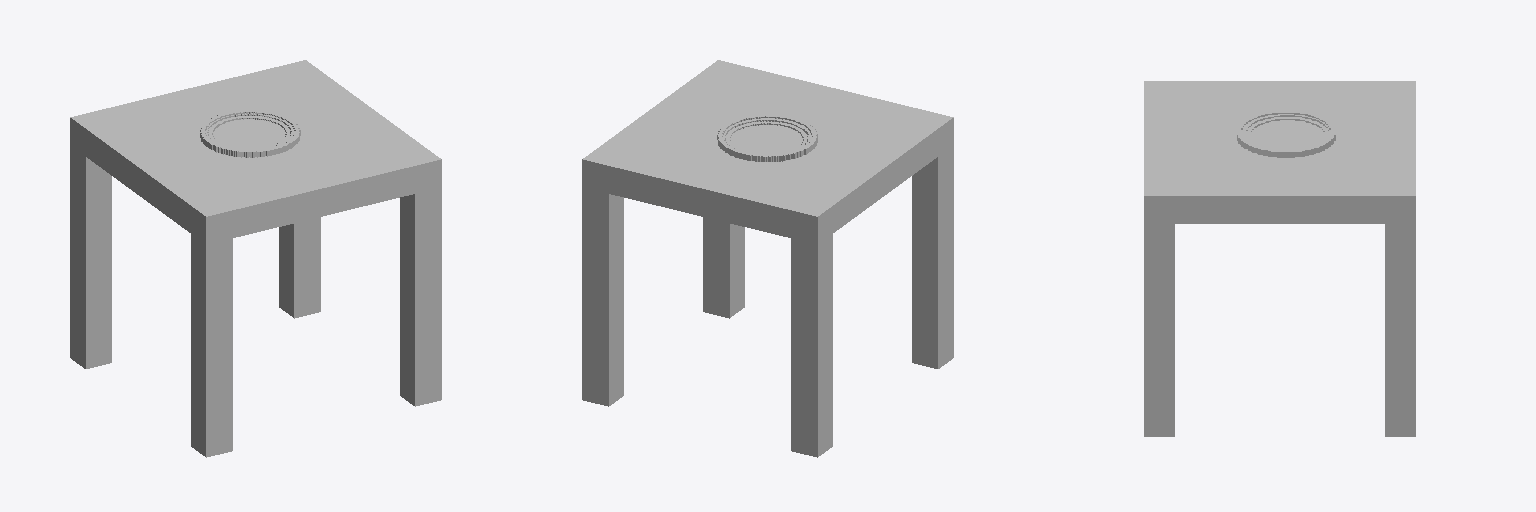
Rendered from MesaPlato.obj.
3 renders of one model, left to right at view 1: azimuth 30°, elevation 25°; view 2: azimuth 150°, elevation 25°; view 3: azimuth 270°, elevation 25°, orthographic.
Visible parts, largest first — view 1: object 1; view 2: object 1; view 3: object 1.
Boxes of the visible parts, x1=… form: object 1: x1=70, y1=60, x2=441, y2=457; object 1: x1=582, y1=60, x2=953, y2=457; object 1: x1=1144, y1=81, x2=1415, y2=436.
Size of the model in its own units: 17.6 by 17.6 by 17.6.